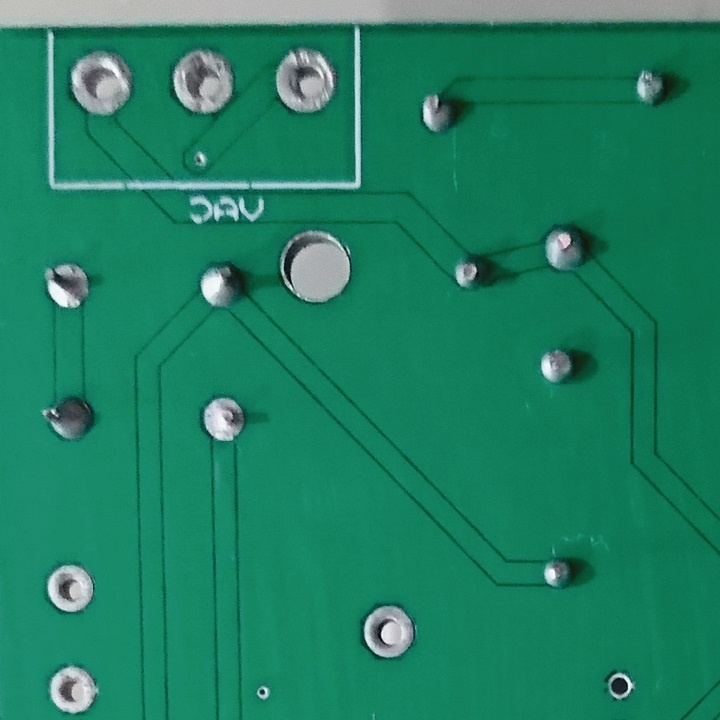F: (61, 49, 139, 119), (169, 44, 239, 118), (273, 49, 340, 119), (357, 601, 421, 661), (40, 258, 93, 318), (43, 662, 104, 714), (41, 560, 97, 616), (199, 394, 251, 448), (601, 670, 638, 702)
